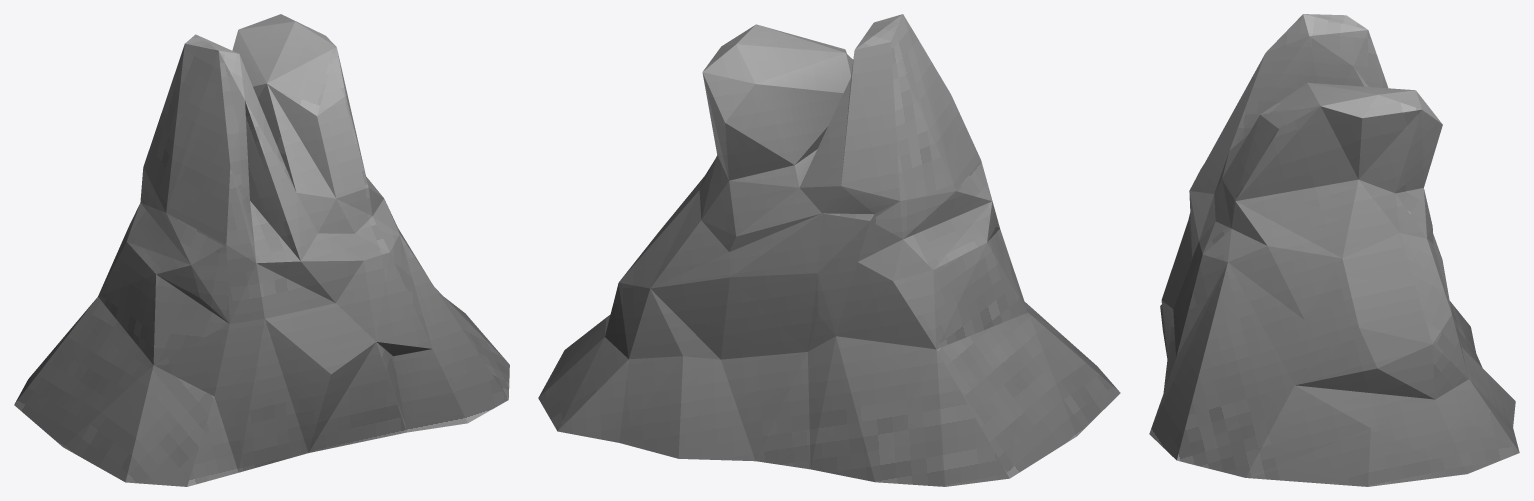
File: mountain_tall_low.glb
3 views of the same model, side by side, from view 1: azimuth 30°, elevation 25°; view 2: azimuth 150°, elevation 25°; view 3: azimuth 270°, elevation 25° (orthographic). The views are drawn at different scales.
Parts seen in each view (by area): view 1: mountain_tall_low; view 2: mountain_tall_low; view 3: mountain_tall_low.
Boxes of the visible parts, x1=… form: mountain_tall_low: x1=14, y1=14, x2=509, y2=486; mountain_tall_low: x1=538, y1=14, x2=1120, y2=486; mountain_tall_low: x1=1149, y1=14, x2=1519, y2=486.
Bounding box in the file's own units: 92.78 × 71.87 × 70.65.
1 material, 1 textured.
